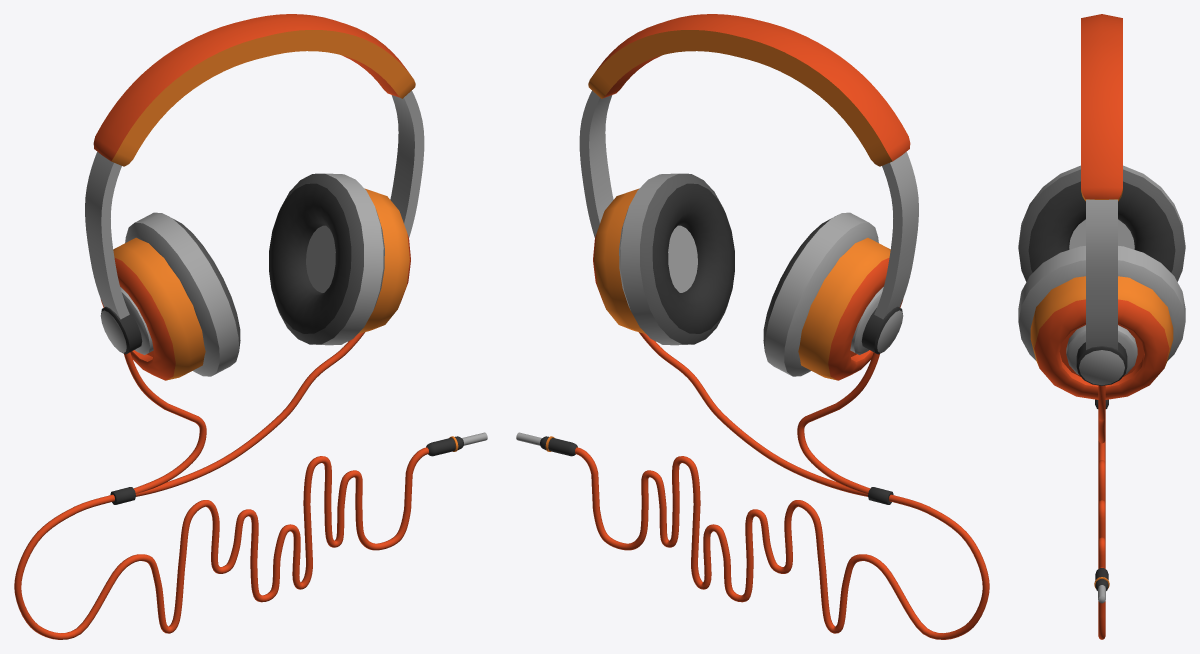
The model's file is headphones_UVW.fbx.
3 views of the same model, side by side, from view 1: azimuth 30°, elevation 25°; view 2: azimuth 150°, elevation 25°; view 3: azimuth 270°, elevation 25° (orthographic). The views are drawn at different scales.
Parts seen in each view (by area): view 1: kabel; view 2: kabel; view 3: kabel.
Part boxes in pixels (x1,y1,x2,y2): kabel: [14, 14, 487, 639]; kabel: [516, 14, 989, 639]; kabel: [1018, 14, 1185, 639].
Size of the model in its own units: 103 by 122 by 32.41.
1 material, 1 textured.
